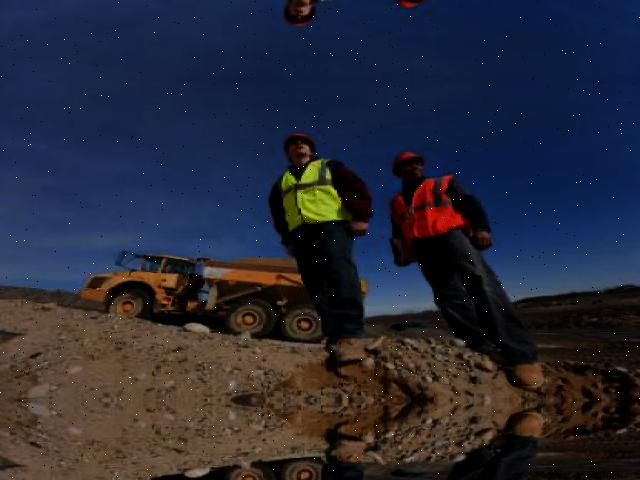Helmet: (386, 147, 428, 173), (277, 130, 317, 152)
